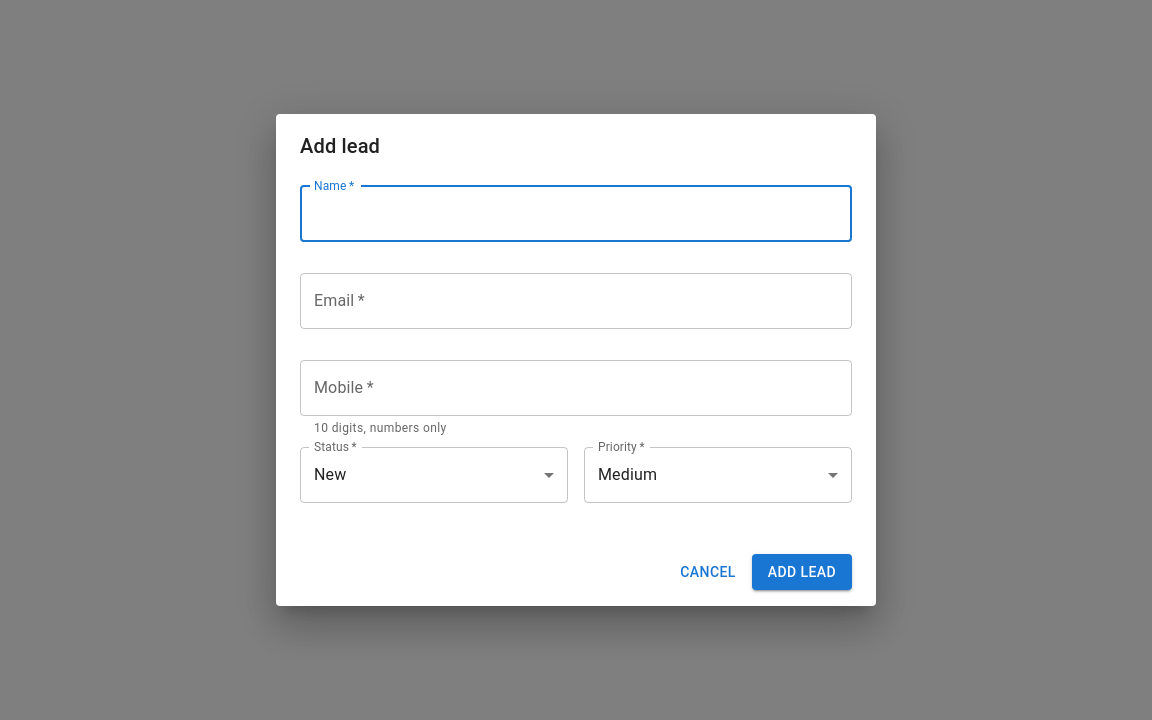
Test: LeadFormDialog › shows required errors for every empty field on submit and does not submit
This screenshot has width=1152, height=720.
Click the button "Add lead": click(802, 572) 752,554 -> 852,590
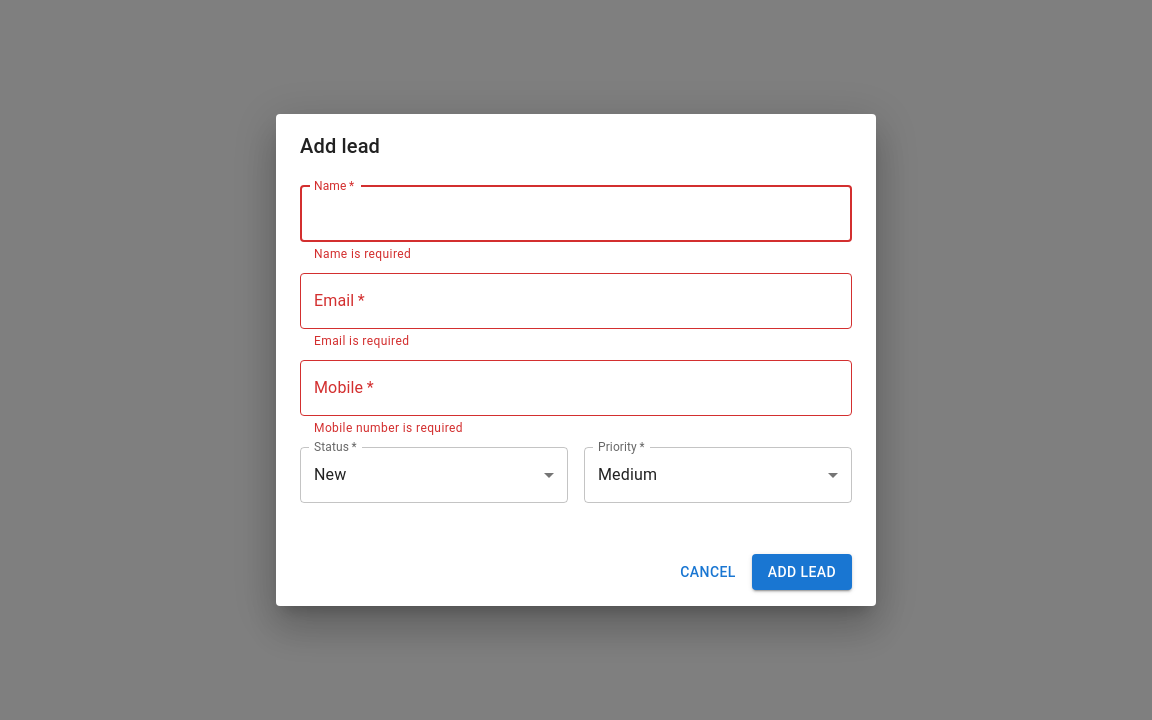
Now the text "Name is required" is shown, box 314,247 -> 411,261
Now the text "Email is required" is shown, box 314,334 -> 409,348
Now the text "Mobile number is required" is shown, box 314,421 -> 463,435
